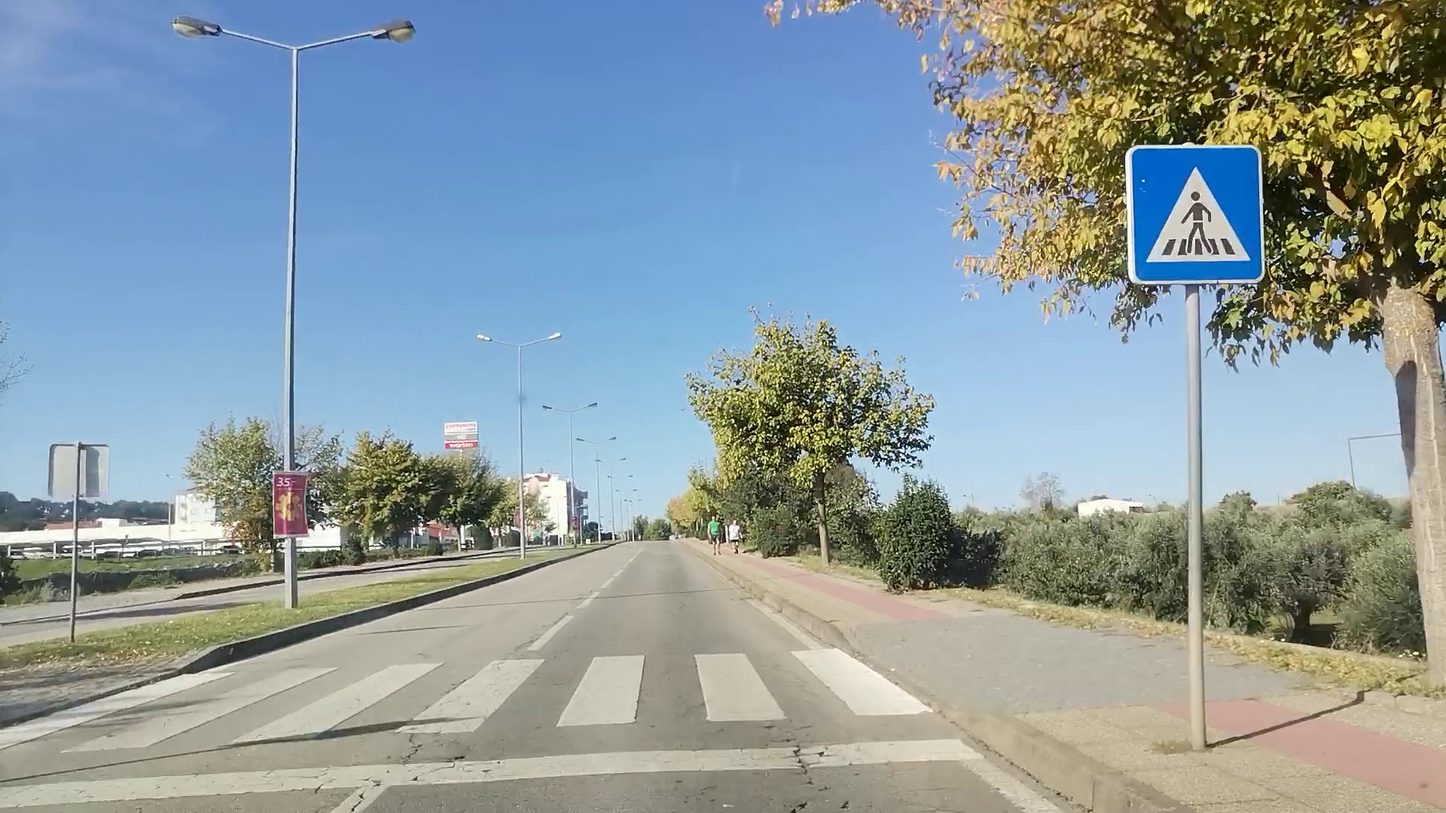Stairs: (101, 651, 964, 787)
